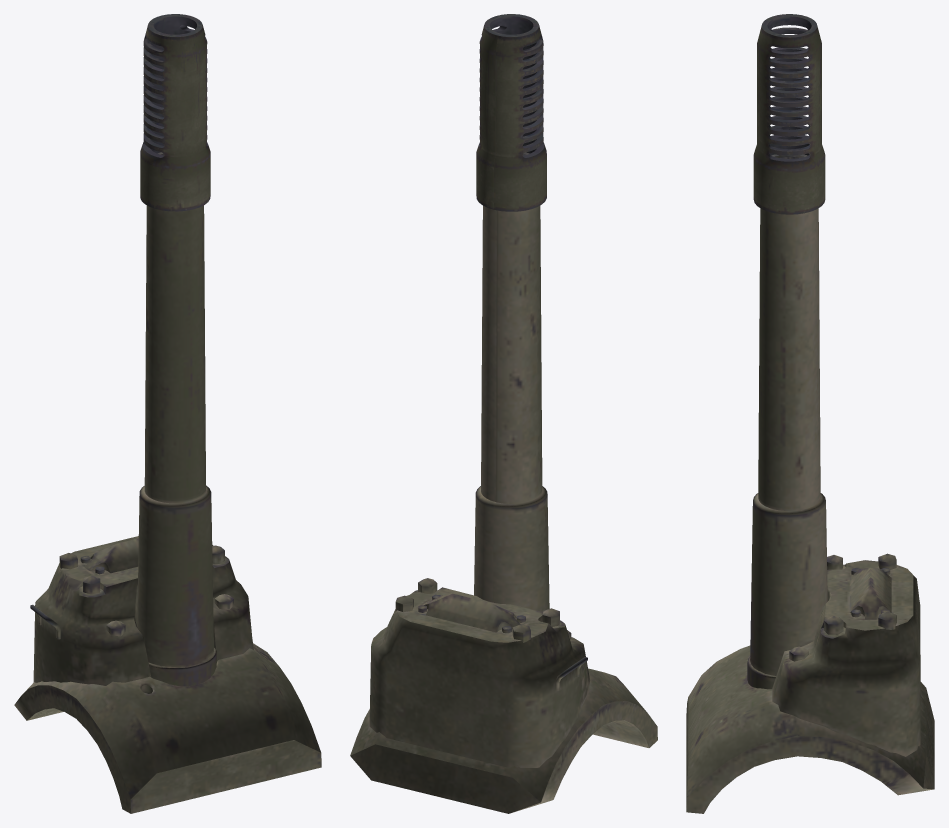
The model's file is Gun_01.glb.
3 renders of one model, left to right at view 1: azimuth 30°, elevation 25°; view 2: azimuth 150°, elevation 25°; view 3: azimuth 270°, elevation 25°, orthographic.
Parts seen in each view (by area): view 1: set_0_group_0; view 2: set_0_group_0; view 3: set_0_group_0.
Part boxes in pixels (x1,y1,x2,y2): set_0_group_0: (14, 14, 321, 813); set_0_group_0: (350, 14, 657, 813); set_0_group_0: (686, 14, 934, 813).
Bounding box in the file's own units: 0.8633 × 3.03 × 0.9203.
1 material, 1 textured.
